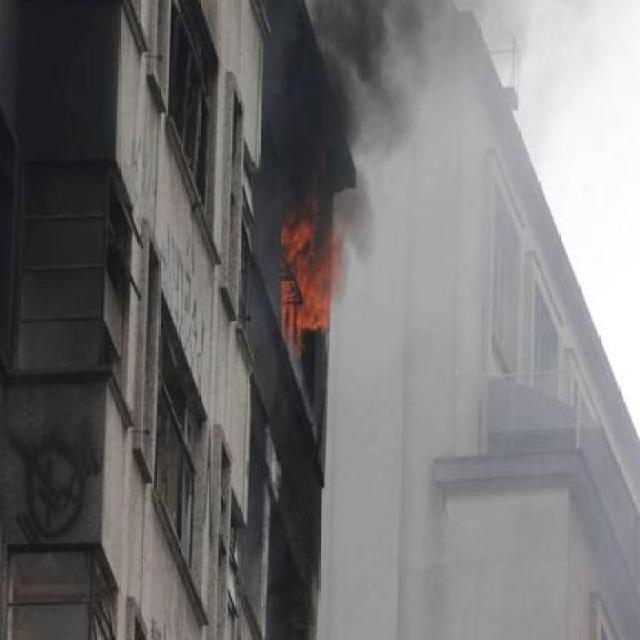Fire: (280, 202, 350, 352)
